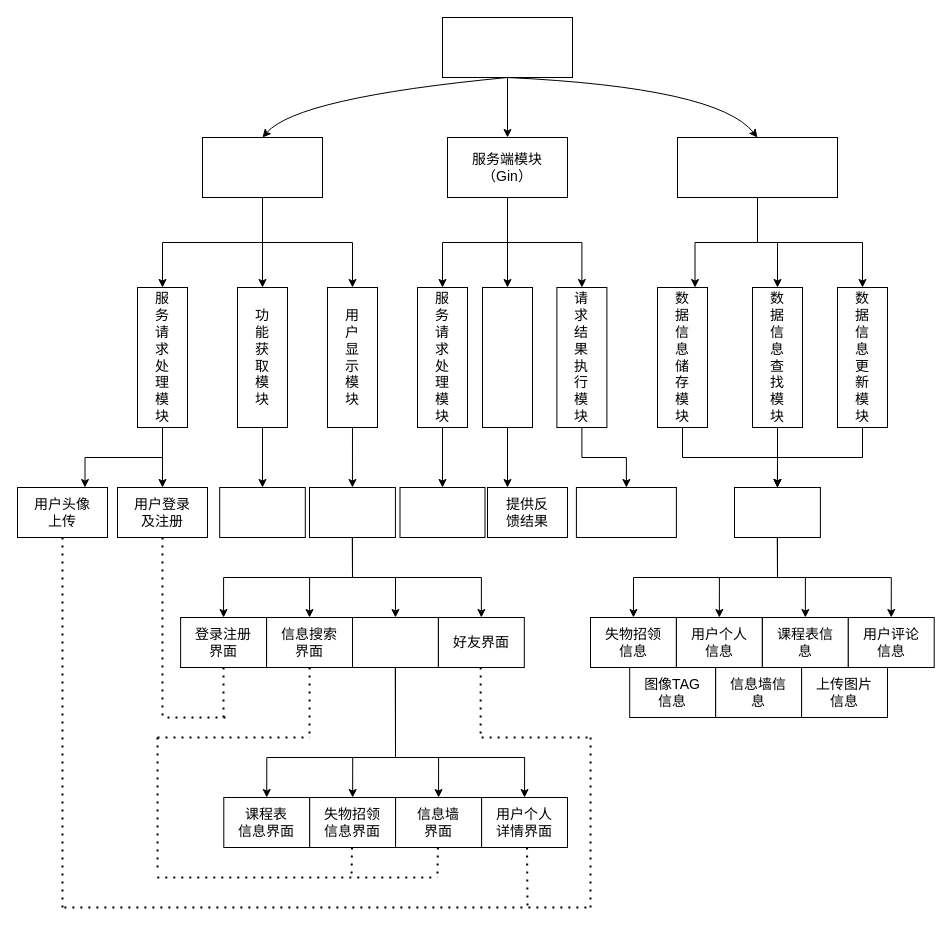
The diagram is 952 pixels wide and 927 high, and some of its shapes have lost their labels. The centre of each missing label's shape, as x and y in pixels:
"Super Campus (校园信息聚合APP)" belongs at [507,47].
"四大主要功能界面" belongs at [395,642].
"客户端模块 （Android）" belongs at [262,167].
"对用户请求分析" belongs at [442,512].
"对请求进行数据分析" belongs at [625,512].
"数据库储存的信息" belongs at [777,512].
"数据库模块 （MySQL + FastDFS）" belongs at [757,167].
"获取博客信息" belongs at [262,512].
"请求结果返回模块" belongs at [507,357].
"软件UI及相关界面" belongs at [351,512].
